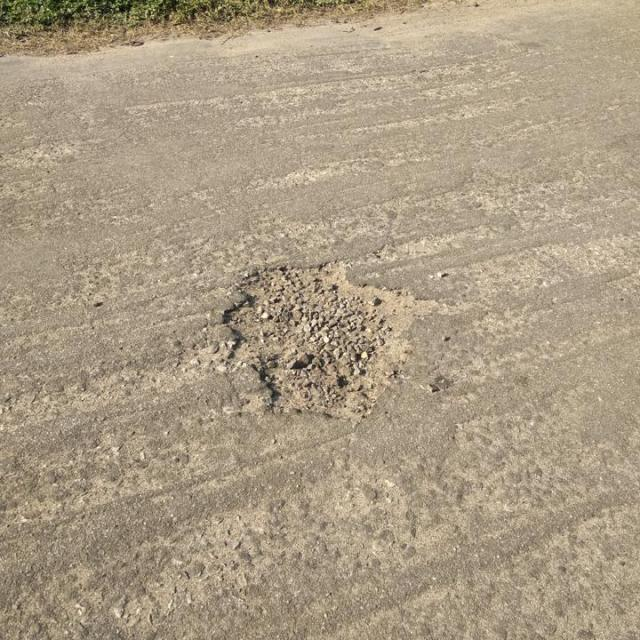Pothole: (220, 260, 445, 426)
